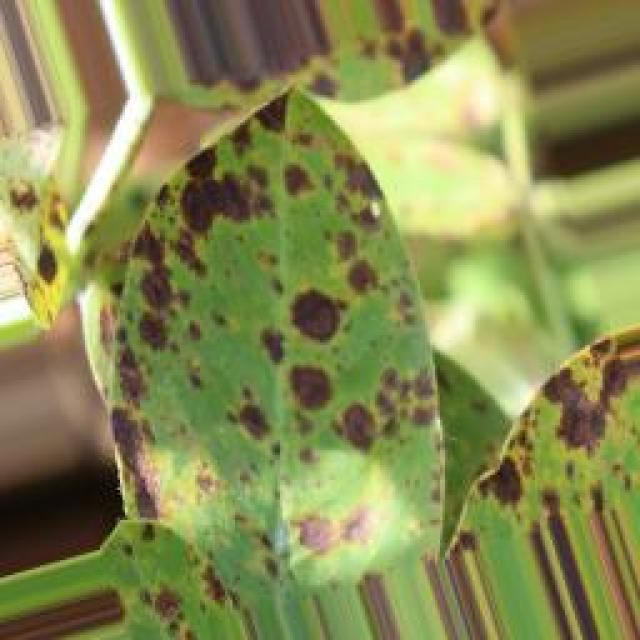Yellowish: (55, 74, 443, 640), (462, 282, 640, 525)
